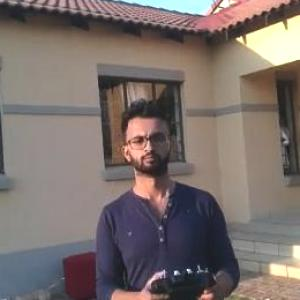follow: (90, 93, 248, 299)
null: (1, 271, 67, 299)
